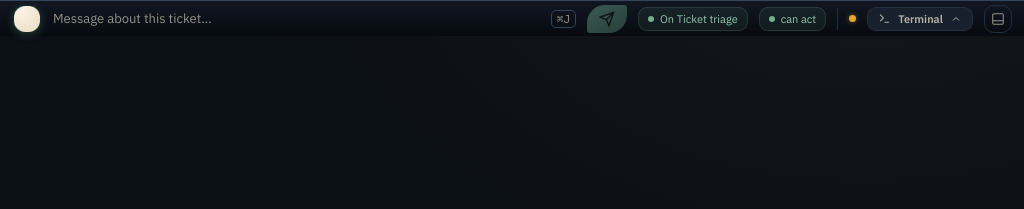
the @ picker › keeps a directory reference open so the next keystroke narrows inside it
The image size is (1024, 209).
Type "@comp" into the field with placeholder "Message about this ticket…".
click(295, 18); type("@comp")  # box [51,9,540,28]
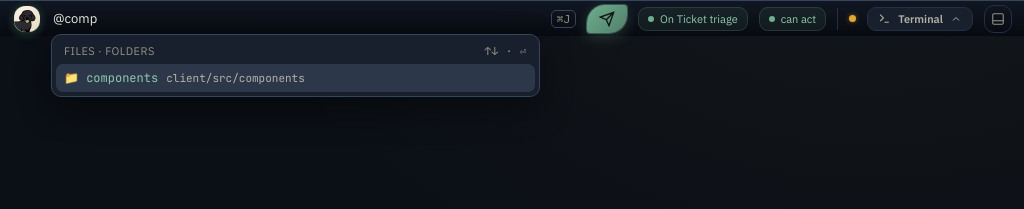
Expected: the option "📁 components client/src/components" is shown, [56,64,535,92]
Press Enter in the field with placeholder "Message about this ticket…", box [51,9,540,28]
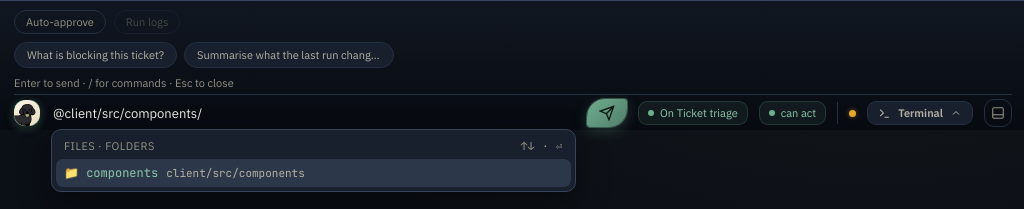
Expected: the field with placeholder "Message about this ticket…" holds "@client/src/components/", [51,104,576,122]
